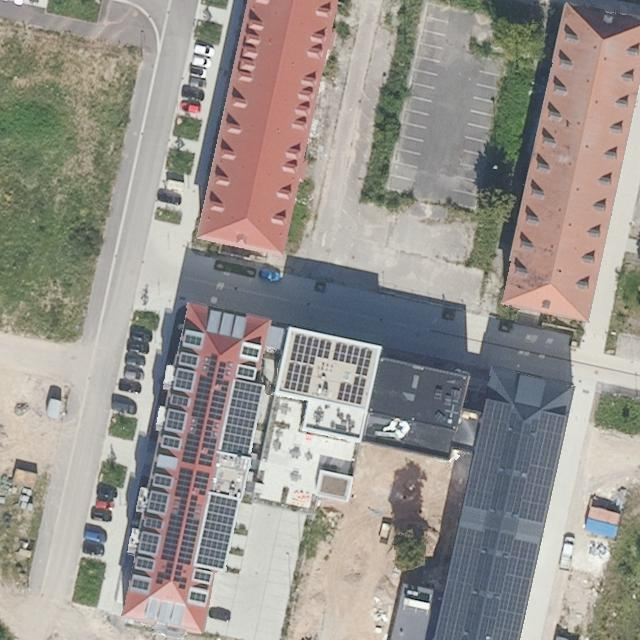PV: (464, 399, 568, 524), (428, 525, 540, 640), (281, 332, 374, 407), (153, 465, 196, 587), (171, 469, 212, 594), (180, 352, 219, 465), (194, 493, 241, 573), (218, 379, 264, 459), (197, 361, 230, 469), (135, 531, 162, 557), (146, 491, 170, 516), (166, 408, 189, 432), (176, 370, 196, 390), (152, 472, 174, 488), (240, 344, 262, 360), (130, 577, 152, 592), (170, 394, 191, 409), (142, 516, 164, 530), (187, 590, 207, 605), (135, 556, 156, 570), (193, 570, 212, 584), (237, 366, 257, 379), (180, 353, 198, 366), (164, 436, 182, 448), (185, 334, 202, 345)
